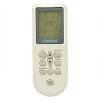remote control: (33, 6, 69, 100)
